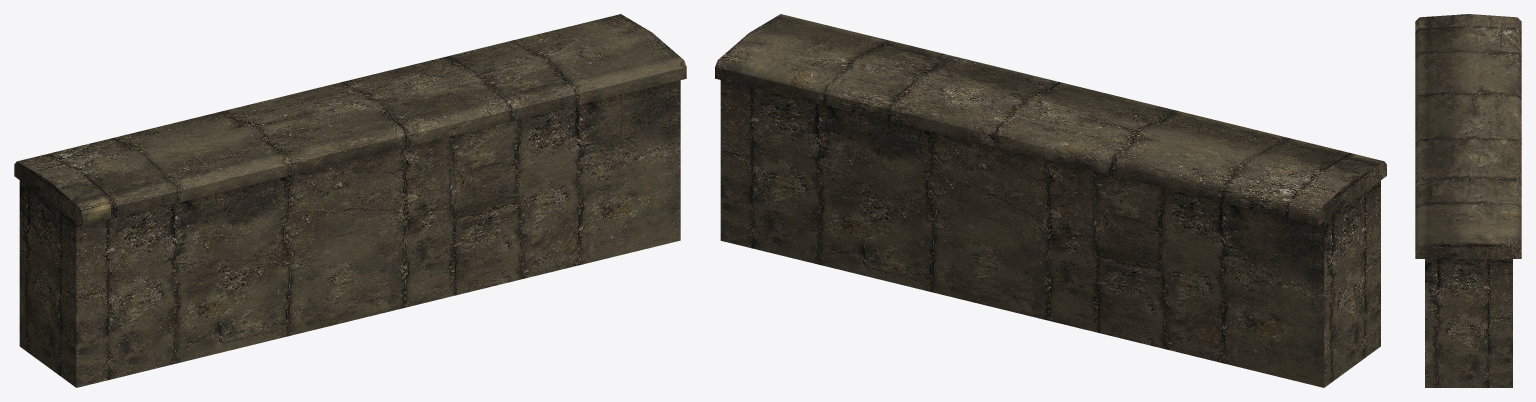
File: NC_welder.DAE
The picture shows the model from 3 angles, left to right: view 1: azimuth 30°, elevation 25°; view 2: azimuth 150°, elevation 25°; view 3: azimuth 270°, elevation 25°; orthographic projection. The views are drawn at different scales.
Parts seen in each view (by area): view 1: NC_welder; view 2: NC_welder; view 3: NC_welder.
Boxes of the visible parts, x1,y1,x2,y2 form: NC_welder: [14, 14, 686, 387]; NC_welder: [715, 14, 1386, 387]; NC_welder: [1415, 14, 1521, 387].
Size of the model in its own units: 4 by 0.7847 by 1.18.
